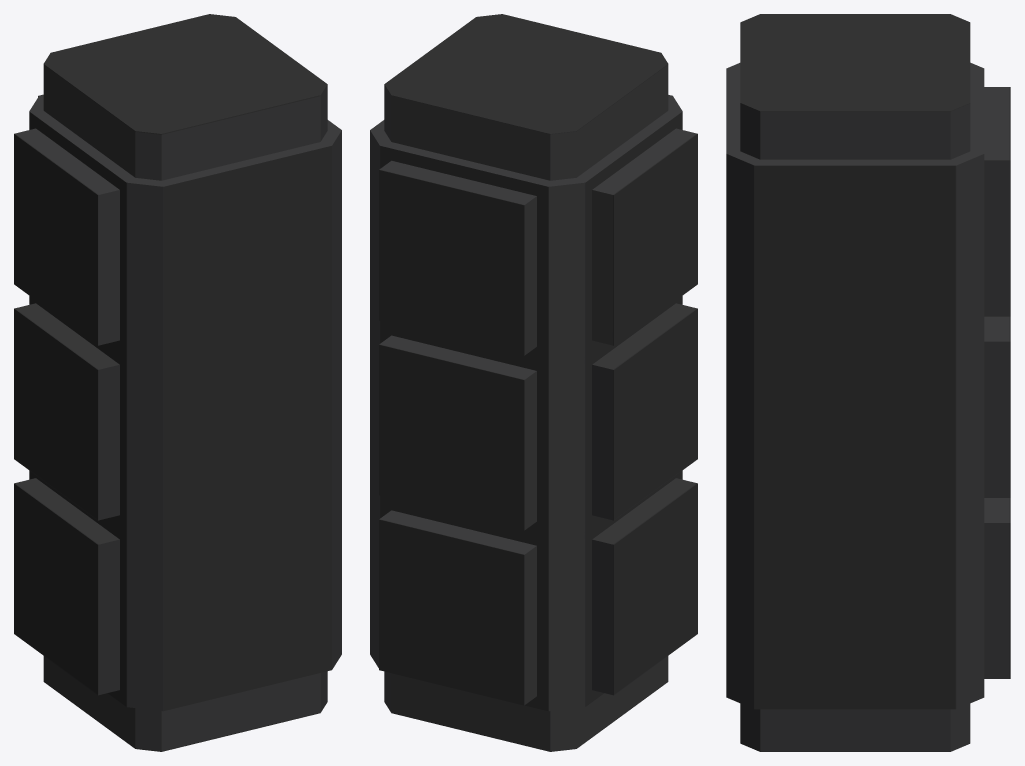
Rendered from LConnectorPillar.fbx.
The picture shows the model from 3 angles, left to right: view 1: azimuth 30°, elevation 25°; view 2: azimuth 150°, elevation 25°; view 3: azimuth 270°, elevation 25°; orthographic projection. The views are drawn at different scales.
Visible parts, largest first — view 1: LConnectorPillar; view 2: LConnectorPillar; view 3: LConnectorPillar.
Part boxes in pixels (bbox=[...]): LConnectorPillar: bbox=[14, 14, 341, 751]; LConnectorPillar: bbox=[370, 14, 697, 751]; LConnectorPillar: bbox=[726, 14, 1010, 751].
Bounding box in the file's own units: 114 × 285 × 114.
